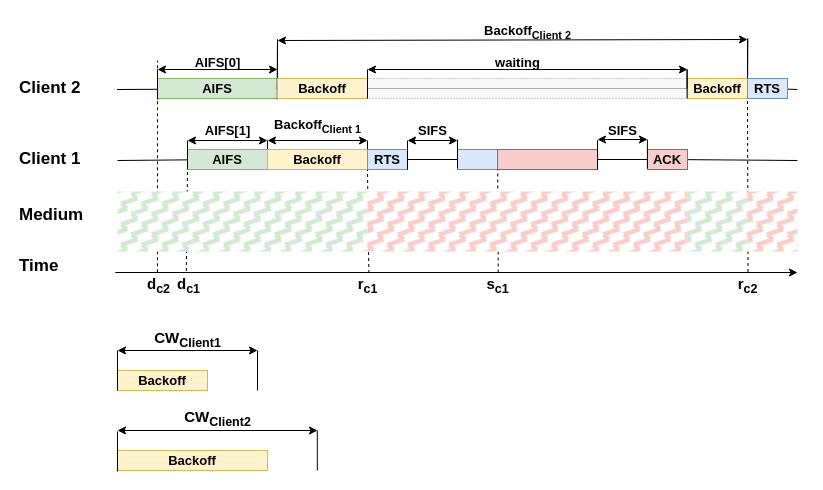
This 823x490 diagram has some shape labels left out. The centre of each missing label's shape, as x and y in pixels:
CTS: (x=477, y=159)
Data: (x=547, y=159)
